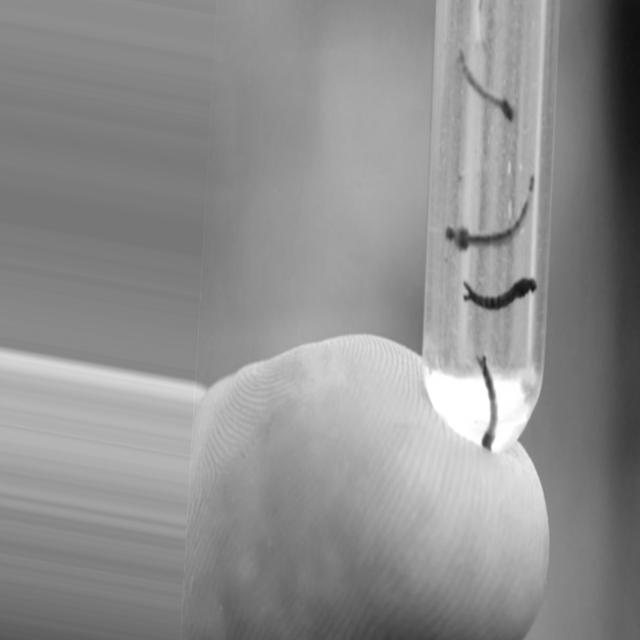larvas: (448, 180, 536, 250), (456, 54, 516, 115), (464, 273, 540, 306), (476, 354, 502, 445)
